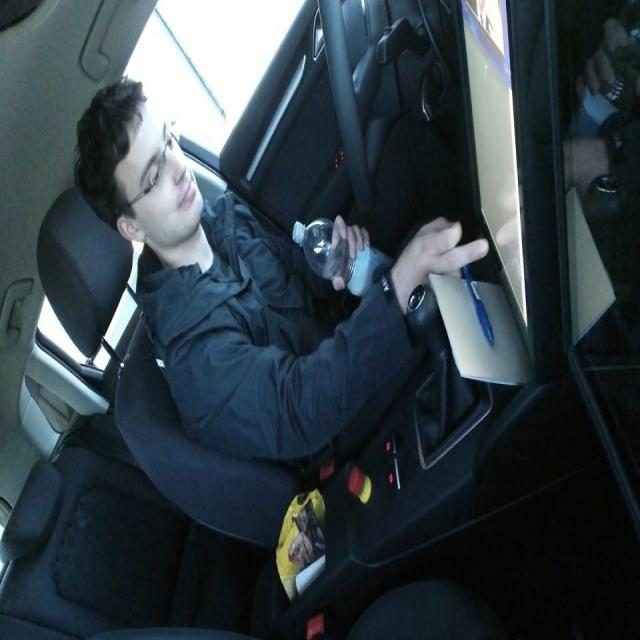pen: (459, 261, 495, 347)
